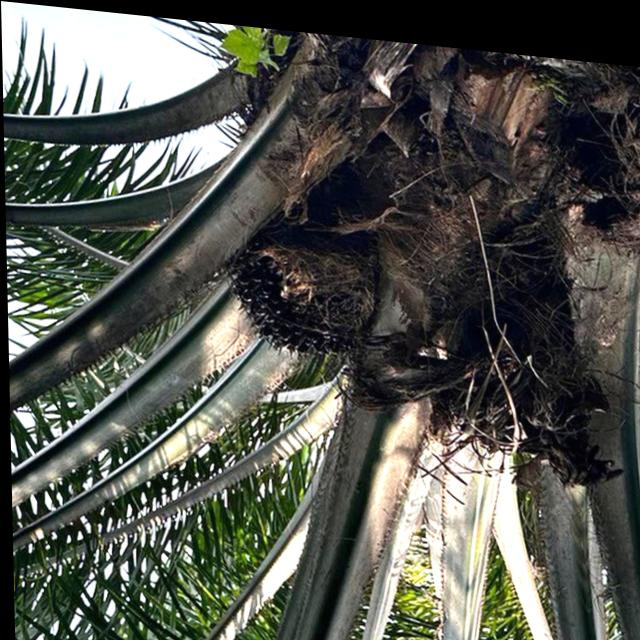almost: (210, 228, 380, 364)
